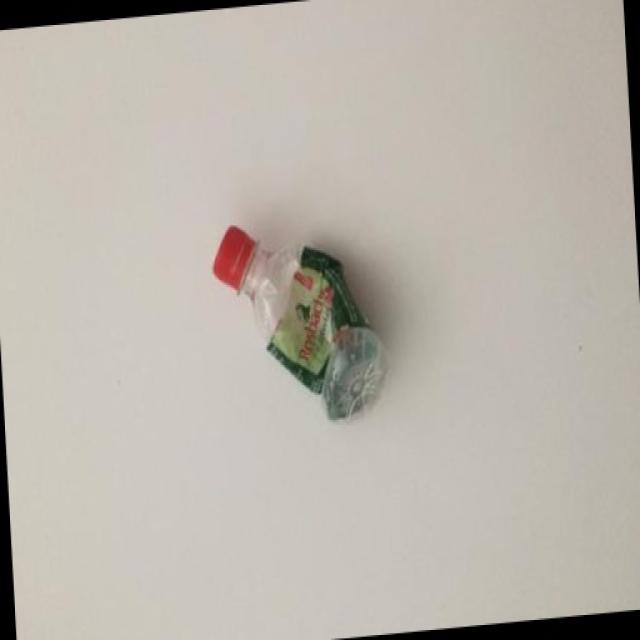plastico: (197, 175, 404, 458)
